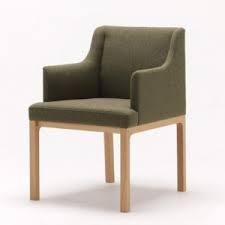chair: (17, 21, 206, 214)
